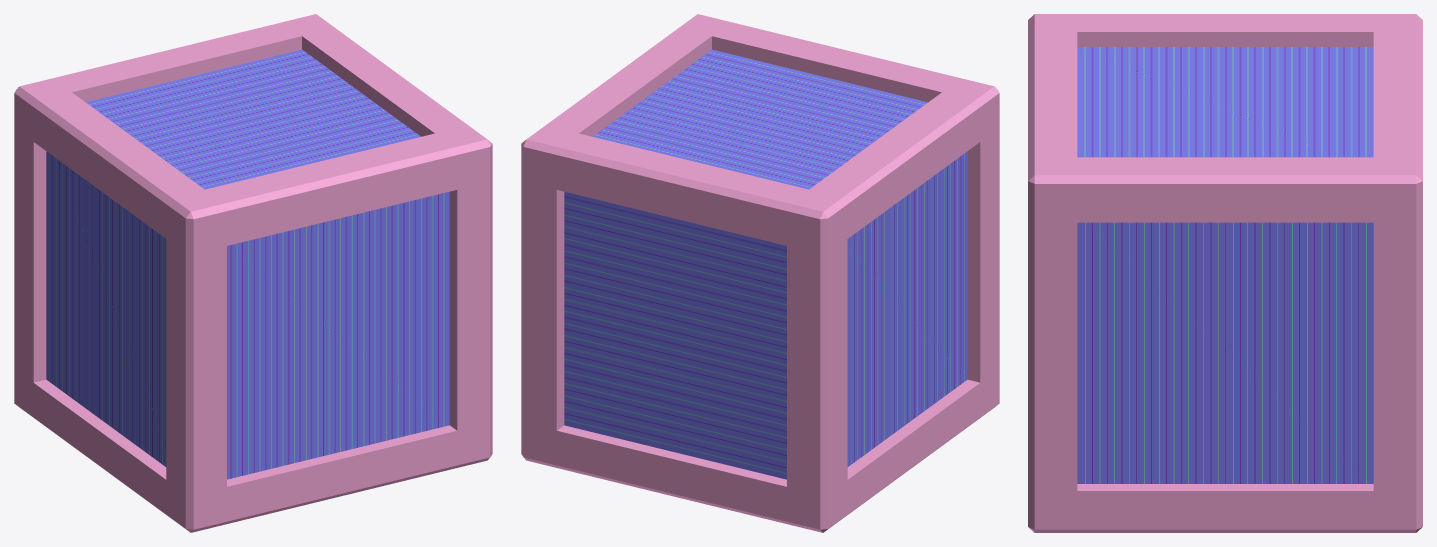
The model's file is WoodBlocks_Rd_01.FBX.
3 renders of one model, left to right at view 1: azimuth 30°, elevation 25°; view 2: azimuth 150°, elevation 25°; view 3: azimuth 270°, elevation 25°, orthographic. The views are drawn at different scales.
Parts seen in each view (by area): view 1: WoodBlocks_Rd_Rough_01, WoodBlocks_Rd_01; view 2: WoodBlocks_Rd_Rough_01, WoodBlocks_Rd_01; view 3: WoodBlocks_Rd_Rough_01, WoodBlocks_Rd_01.
Boxes of the visible parts, box(x1,y1,x2,y2) form: WoodBlocks_Rd_Rough_01: box(46, 49, 449, 479); WoodBlocks_Rd_01: box(14, 14, 492, 532); WoodBlocks_Rd_Rough_01: box(564, 49, 967, 479); WoodBlocks_Rd_01: box(521, 14, 999, 532); WoodBlocks_Rd_Rough_01: box(1077, 47, 1373, 483); WoodBlocks_Rd_01: box(1028, 14, 1422, 532).
Size of the model in its own units: 1.2 by 1.2 by 1.2.
